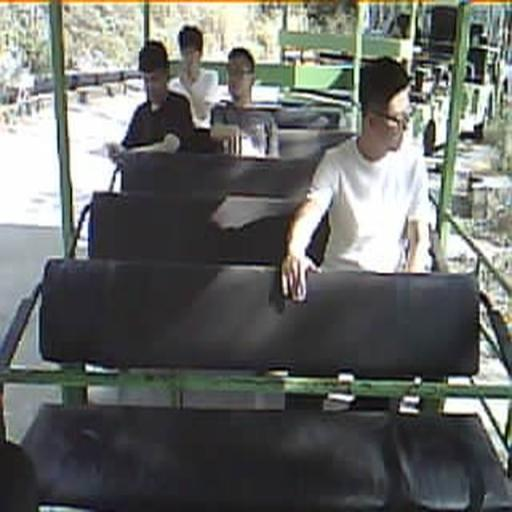persona: (280, 55, 436, 303), (107, 39, 197, 159), (207, 46, 282, 160), (168, 23, 218, 127)
